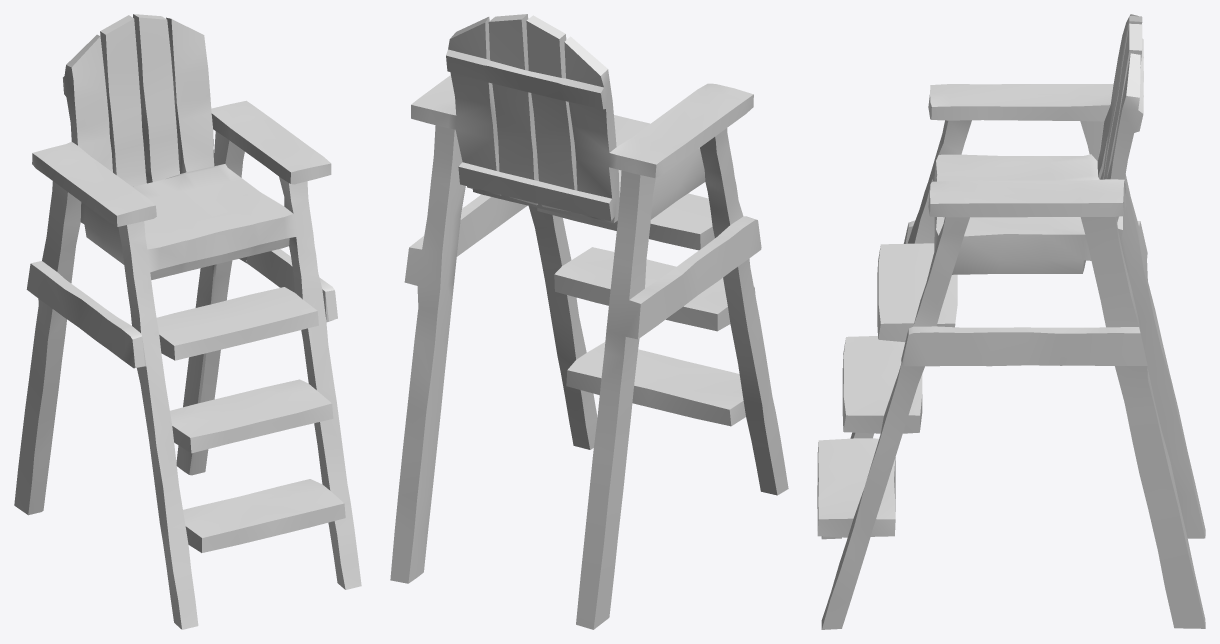
Rendered from GuardChair.fbx.
3 renders of one model, left to right at view 1: azimuth 30°, elevation 25°; view 2: azimuth 150°, elevation 25°; view 3: azimuth 270°, elevation 25°, orthographic. The views are drawn at different scales.
Parts seen in each view (by area): view 1: GuardChair; view 2: GuardChair; view 3: GuardChair.
Boxes of the visible parts, x1,y1,x2,y2 form: GuardChair: (14,14,361,629); GuardChair: (390,14,788,629); GuardChair: (817,14,1205,629).
Size of the model in its own units: 3.96 by 8.55 by 5.4.
